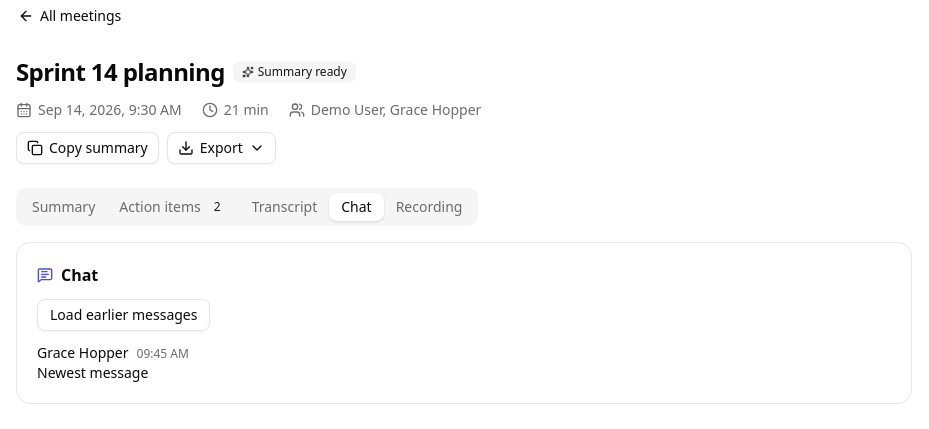
Test: <MeetingDetailPage /> › shows the chat log and reads further back on request
Check: the text "Newest message" is shown, box top-left (37, 363), bottom-right (148, 382)
What coordinates should you click on to do the following:
click the button "Load earlier messages"
I would click on:
 (124, 315)
Its box is top-left (37, 299), bottom-right (210, 331).
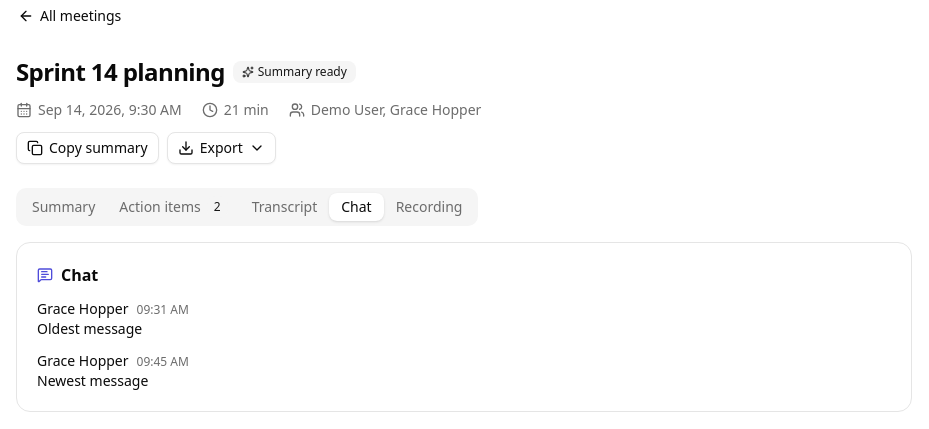
Check: the button "Load earlier messages" is gone
